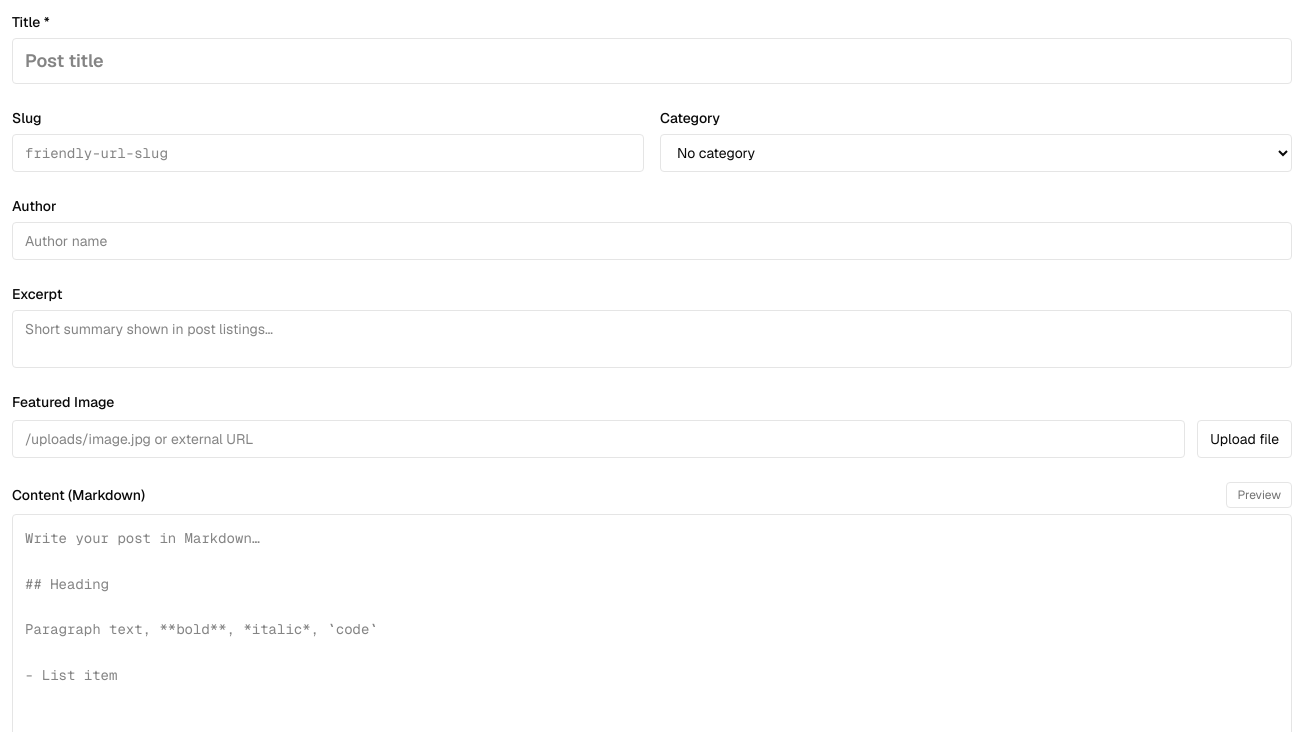
PostForm › title auto-slug › title change auto-generates slug in create mode
The width and height of the screenshot is (1304, 732).
Step 1. Type "Hello World" into the field with placeholder "Post title" → (652, 61), box [12, 38, 1292, 84]
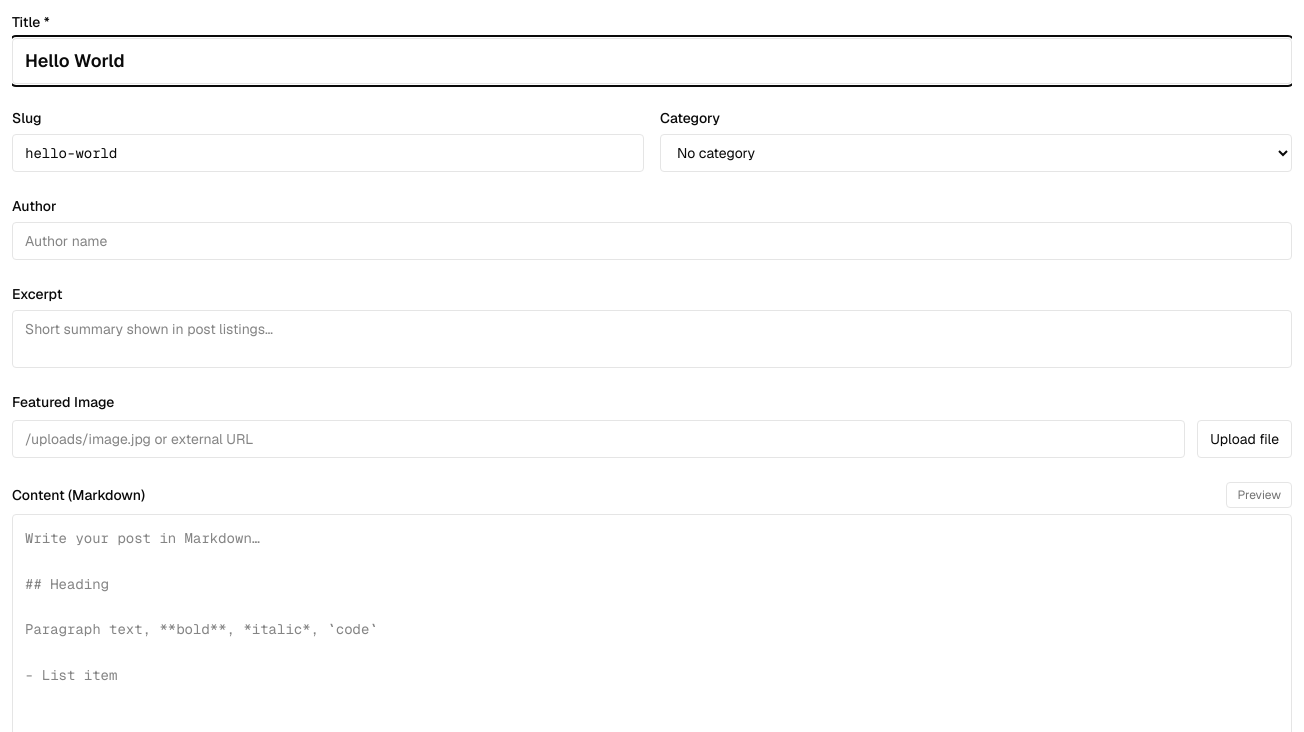
expect the field with placeholder "friendly-url-slug" below "Slug" holds "hello-world": met, box [12, 134, 644, 172]
